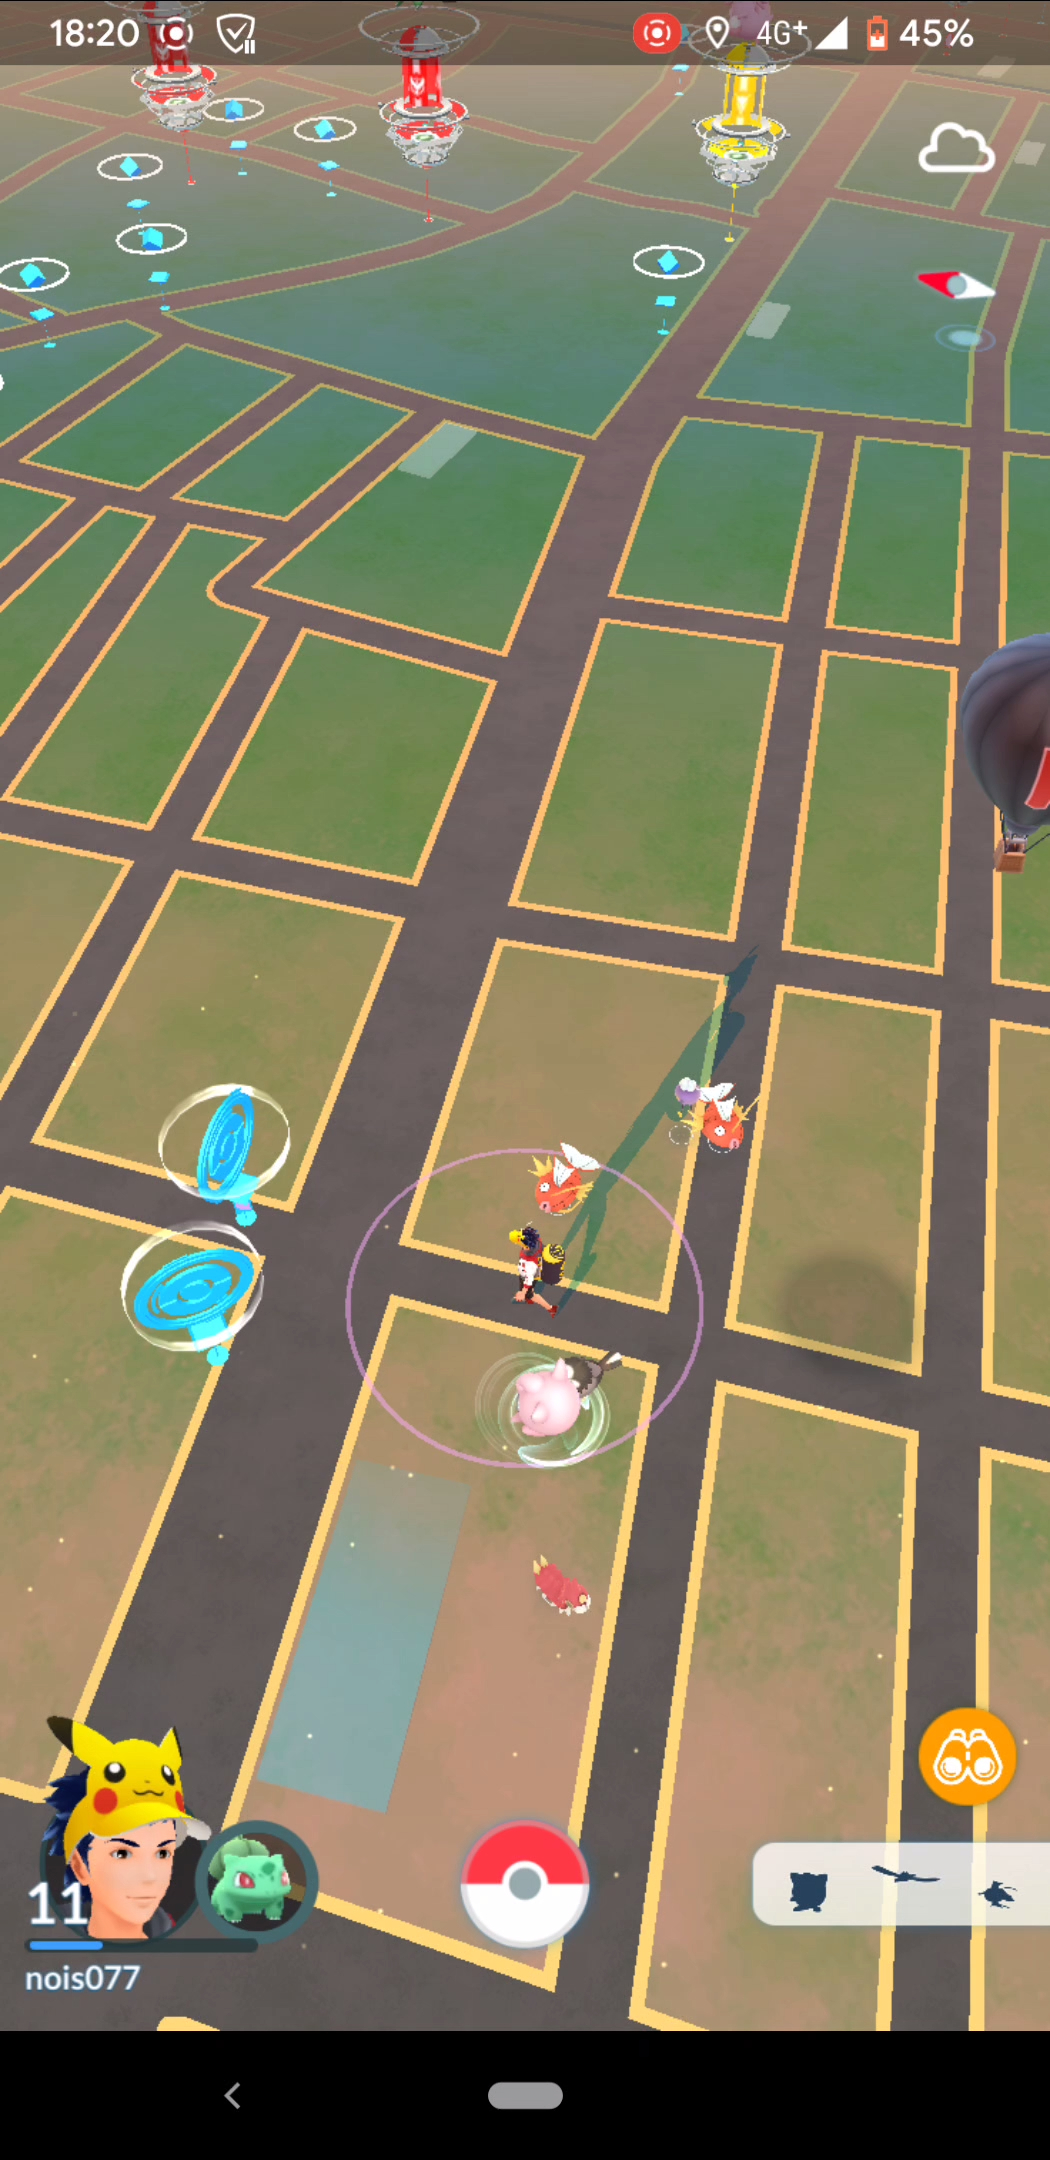pokestop: (134, 1247, 263, 1332), (187, 1084, 263, 1207)
